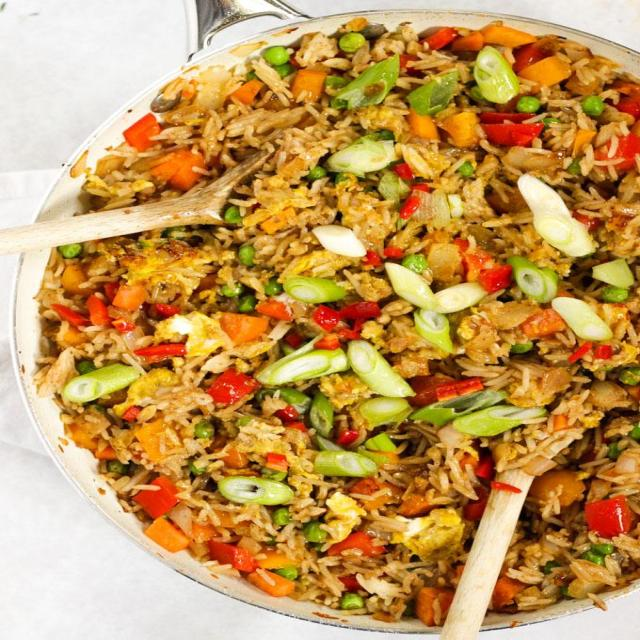Nasi Goreng: (32, 18, 638, 627)
